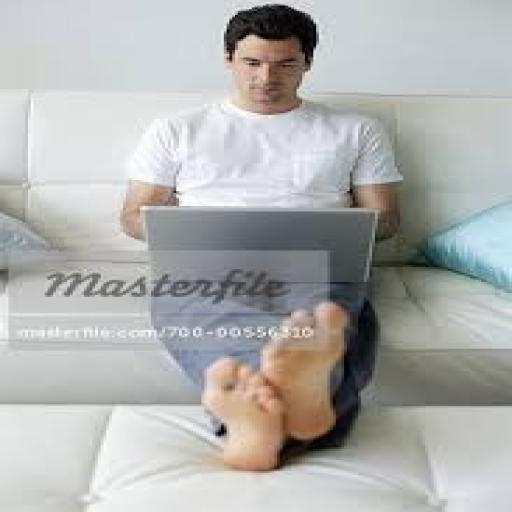using_laptop: (137, 204, 381, 388)
